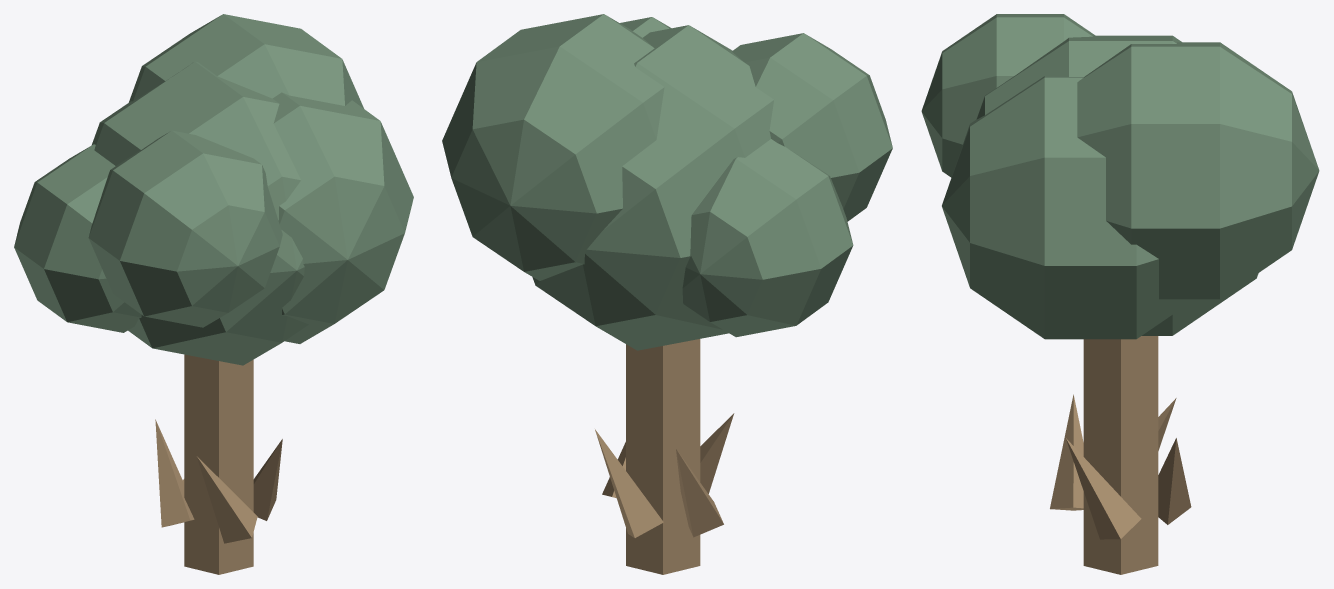
File: mdl_vegetation_tree_ceiba_001_lod1.glb
The picture shows the model from 3 angles, left to right: view 1: azimuth 30°, elevation 25°; view 2: azimuth 150°, elevation 25°; view 3: azimuth 270°, elevation 25°; orthographic projection. The views are drawn at different scales.
Parts seen in each view (by area): view 1: m_manigua, m_madera; view 2: m_manigua, m_madera; view 3: m_manigua, m_madera.
Part boxes in pixels (x1=…): m_manigua: x1=14, y1=14, x2=413, y2=365; m_madera: x1=155, y1=354, x2=282, y2=574; m_manigua: x1=442, y1=14, x2=892, y2=350; m_madera: x1=595, y1=339, x2=734, y2=574; m_manigua: x1=921, y1=14, x2=1319, y2=339; m_madera: x1=1050, y1=336, x2=1191, y2=574.
Size of the model in its own units: 5.06 by 7.15 by 4.81.
